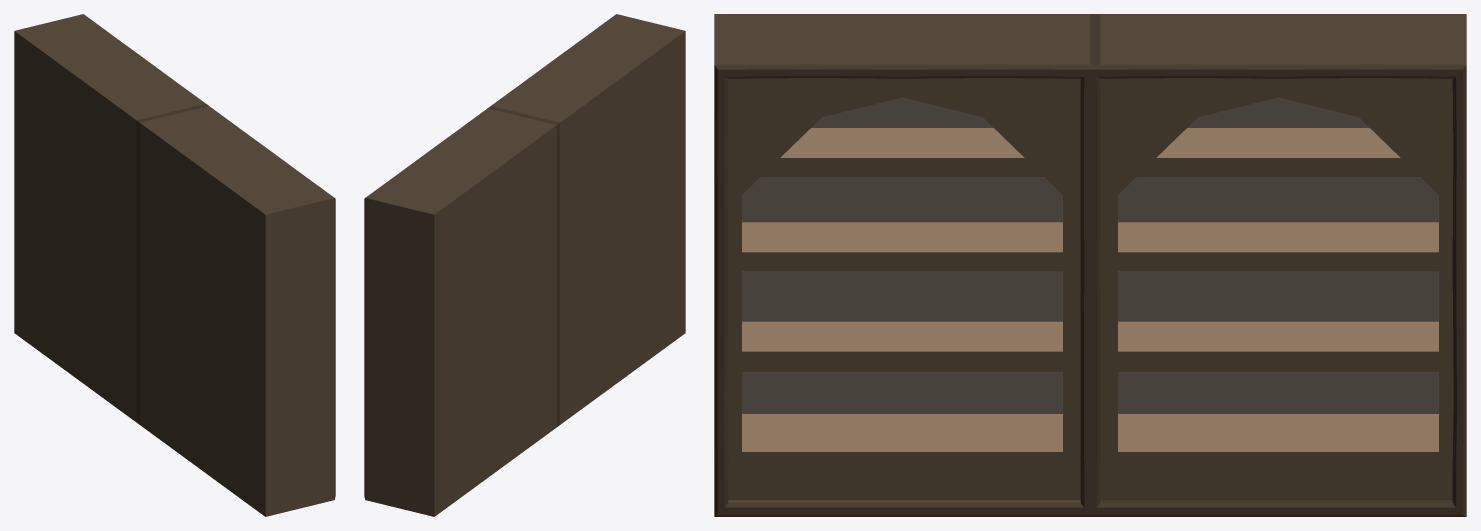
The model's file is fancy_bookshelf_mini.fbx.
3 renders of one model, left to right at view 1: azimuth 30°, elevation 25°; view 2: azimuth 150°, elevation 25°; view 3: azimuth 270°, elevation 25°, orthographic. The views are drawn at different scales.
Parts seen in each view (by area): view 1: bookshelf2; view 2: bookshelf2; view 3: bookshelf2.
Boxes of the visible parts, x1,y1,x2,y2 form: bookshelf2: (14, 14, 335, 516); bookshelf2: (364, 14, 685, 516); bookshelf2: (714, 14, 1466, 516).
Size of the model in its own units: 80.3 by 326 by 491.
